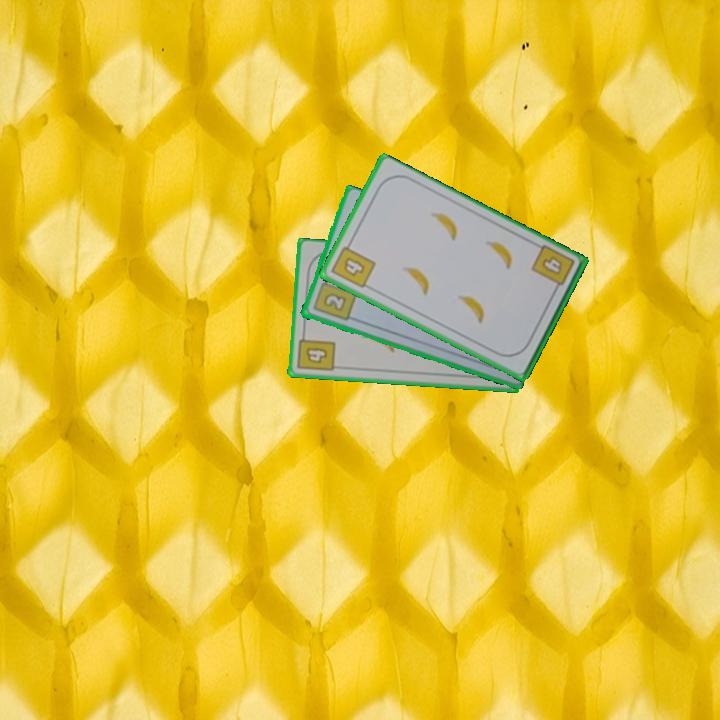2b: (309, 273, 358, 324)
4b: (328, 238, 379, 291), (528, 242, 577, 296), (294, 329, 338, 375)
